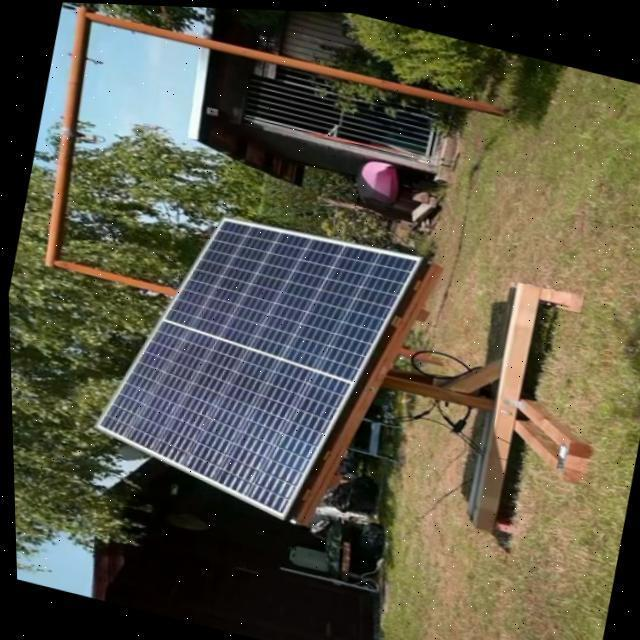Normal Solar Panel: (79, 186, 426, 538)
